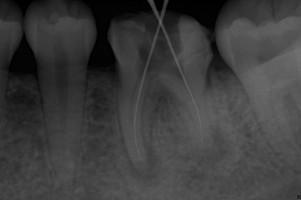Furcation Involvement: (191, 127, 230, 171), (129, 147, 164, 187)
